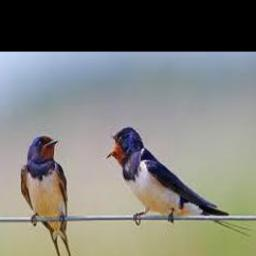Swallow: (104, 126, 252, 236), (21, 133, 71, 256)
